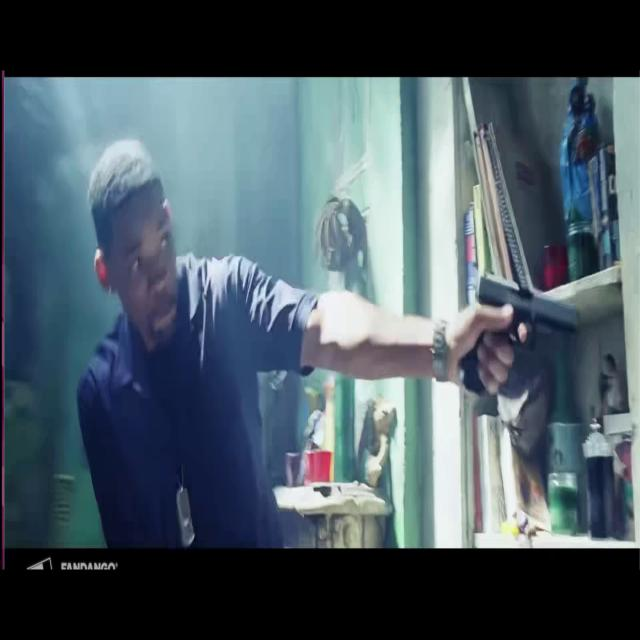weapons: (456, 251, 585, 418)
